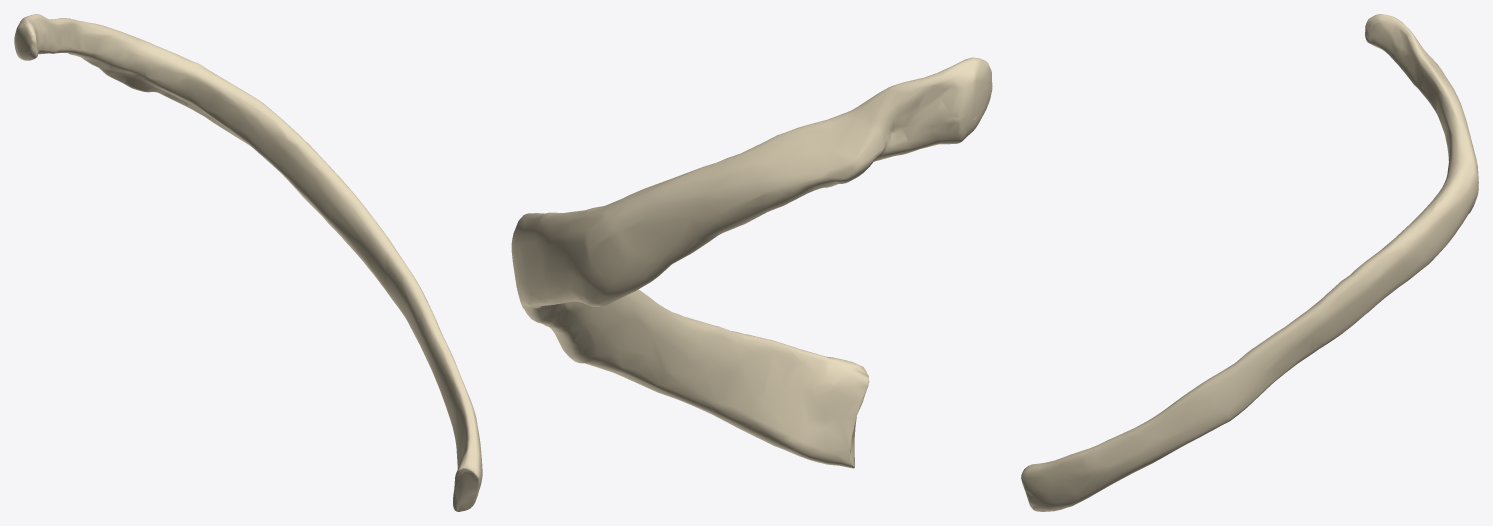
File: esqueleto-eighth-rib-l.glb
3 views of the same model, side by side, from view 1: azimuth 30°, elevation 25°; view 2: azimuth 150°, elevation 25°; view 3: azimuth 270°, elevation 25° (orthographic). The views are drawn at different scales.
Visible parts, largest first — view 1: Eighth rib.l; view 2: Eighth rib.l; view 3: Eighth rib.l.
Part boxes in pixels (x1=…): Eighth rib.l: x1=14, y1=14, x2=482, y2=511; Eighth rib.l: x1=511, y1=57, x2=992, y2=468; Eighth rib.l: x1=1021, y1=14, x2=1478, y2=511.
Bounding box in the file's own units: 0.1179 × 0.1515 × 0.1634.
